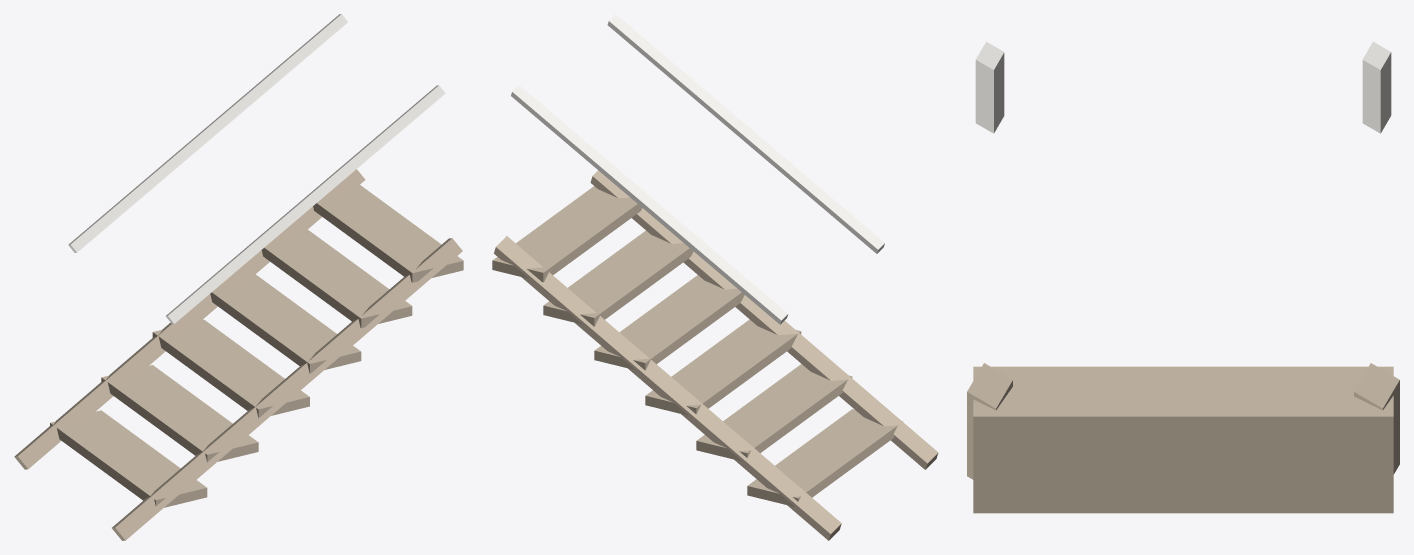
File: porch_ground_stair.glb
3 views of the same model, side by side, from view 1: azimuth 30°, elevation 25°; view 2: azimuth 150°, elevation 25°; view 3: azimuth 270°, elevation 25° (orthographic). The views are drawn at different scales.
Visible parts, largest first — view 1: porch_ground_stair_wood, porch_ground_stair_trim; view 2: porch_ground_stair_wood, porch_ground_stair_trim; view 3: porch_ground_stair_wood, porch_ground_stair_trim.
Boxes of the visible parts, bbox=[...] form: porch_ground_stair_wood: bbox=[14, 169, 463, 540]; porch_ground_stair_trim: bbox=[68, 14, 445, 324]; porch_ground_stair_wood: bbox=[492, 170, 938, 540]; porch_ground_stair_trim: bbox=[511, 14, 884, 324]; porch_ground_stair_wood: bbox=[967, 363, 1399, 513]; porch_ground_stair_trim: bbox=[975, 41, 1391, 133].
Size of the model in its own units: 1.9 by 1.99 by 1.03.
